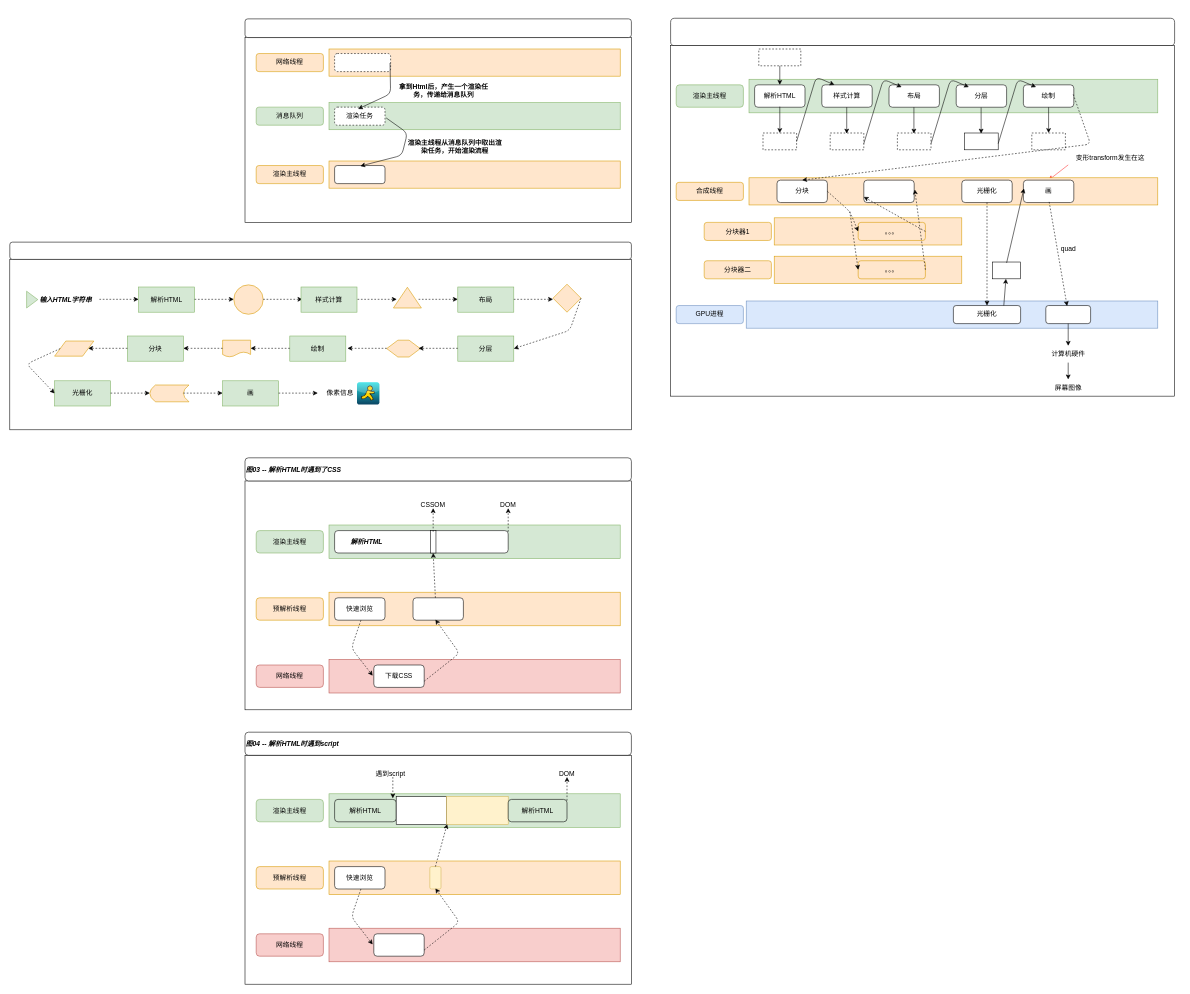
The diagram is 1190 pixels wide and 994 high, and some of its shapes have lost their labels. Each missing label, with the box of its shape:
DOM树 CSSOM: (762, 132, 797, 150)
HTML字符串: (758, 48, 801, 66)
下载JS: (373, 933, 424, 956)
位图: (992, 261, 1021, 279)
分成了很多块（分块）: (863, 180, 914, 203)
图01 -- 渲染时间点: (244, 18, 631, 38)
图02 -- 渲染流水线: (9, 242, 631, 259)
图05 -- 整个绘制过程: (670, 18, 1175, 46)
对布局进行分层: (964, 132, 998, 150)
布局树: (897, 132, 931, 150)
带有样式的DOM树: (830, 132, 864, 150)
执行JS: (446, 796, 508, 825)
暂停: (396, 796, 447, 825)
每层的绘制指令集: (1031, 132, 1065, 150)
渲染: (334, 165, 385, 184)
解析: (412, 597, 463, 620)
通信，获取html: (334, 53, 391, 72)
